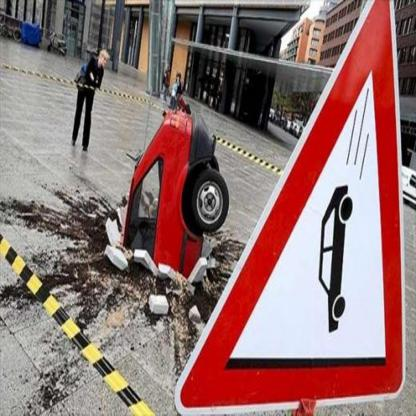face: (102, 56, 108, 66), (178, 77, 180, 82)
